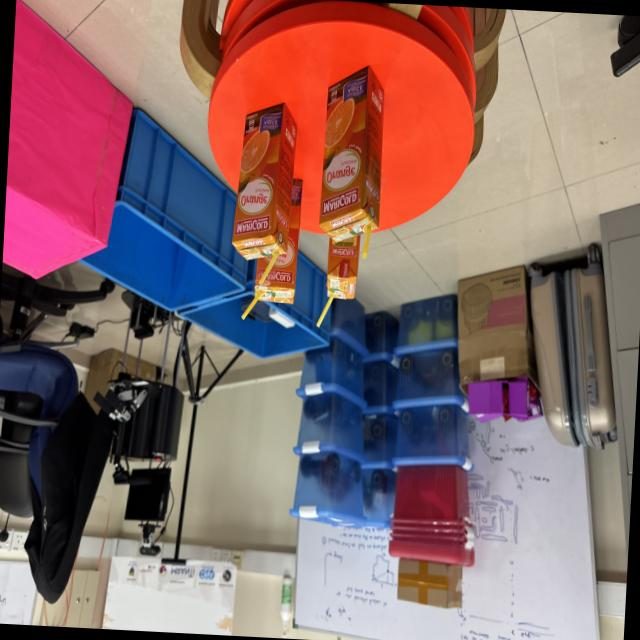drink_carton: (310, 62, 393, 268), (231, 98, 304, 290), (236, 167, 311, 329), (313, 232, 372, 336)
